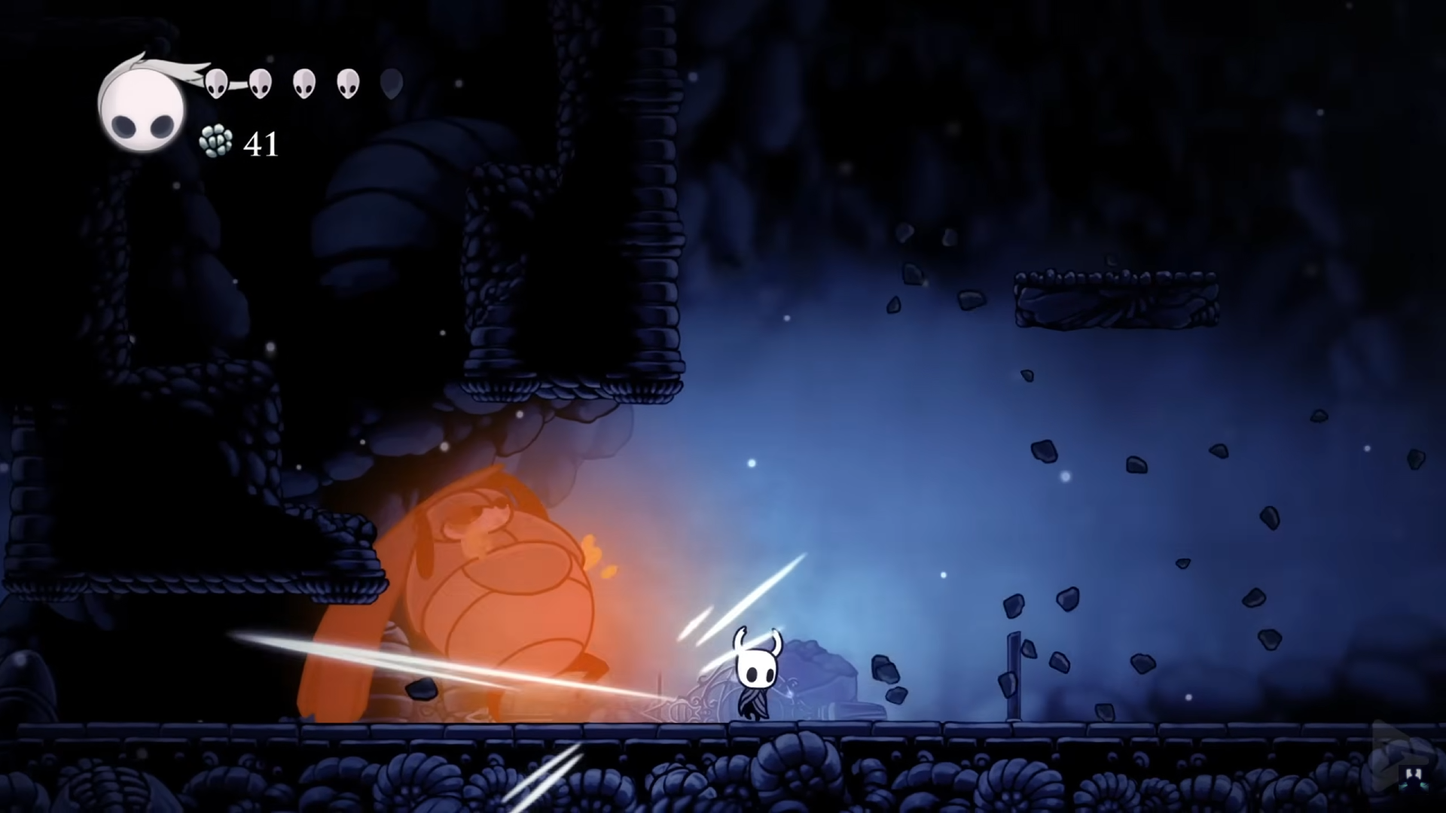HK: (723, 624, 783, 724)
